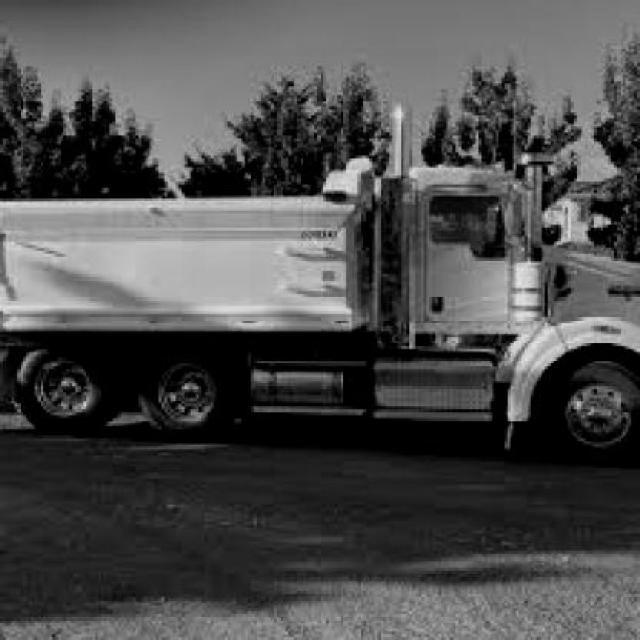Box Truck: (0, 104, 640, 457)
